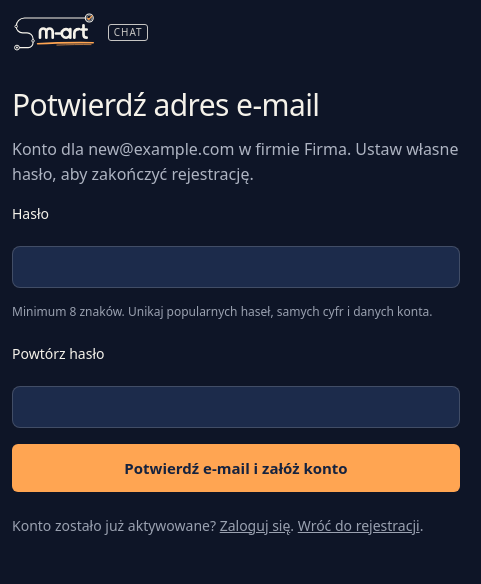
aktywacja › błędne hasło zachowuje formularz i czytelny błąd
In the password field labelled "Hasło": (236, 267) [12, 246, 460, 288], type "password123"
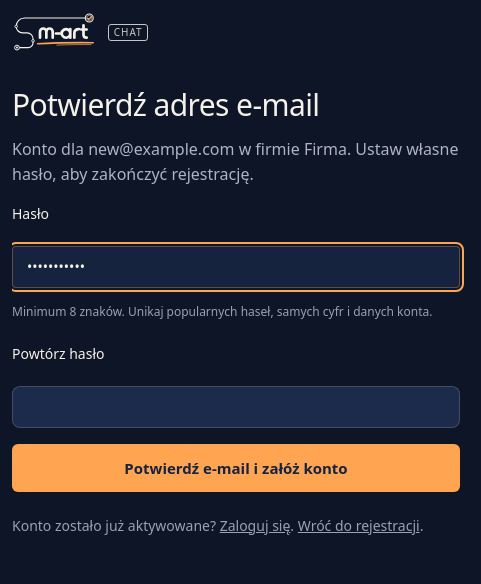
In the password field labelled "Powtórz hasło": (236, 407) [12, 386, 460, 428], type "password123"
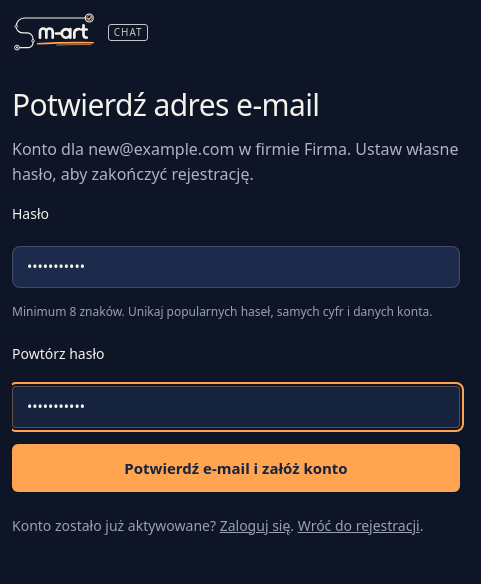
Click the button "Potwierdź e-mail i załóż konto": (236, 468) [12, 444, 460, 492]
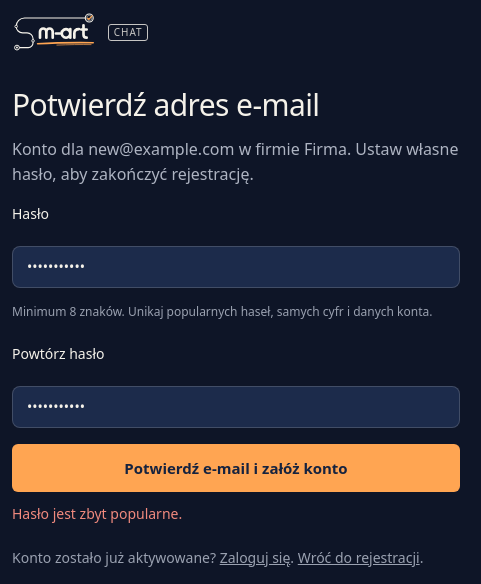
Result: the message shows "zbyt popularne" at [12, 504, 182, 523]
